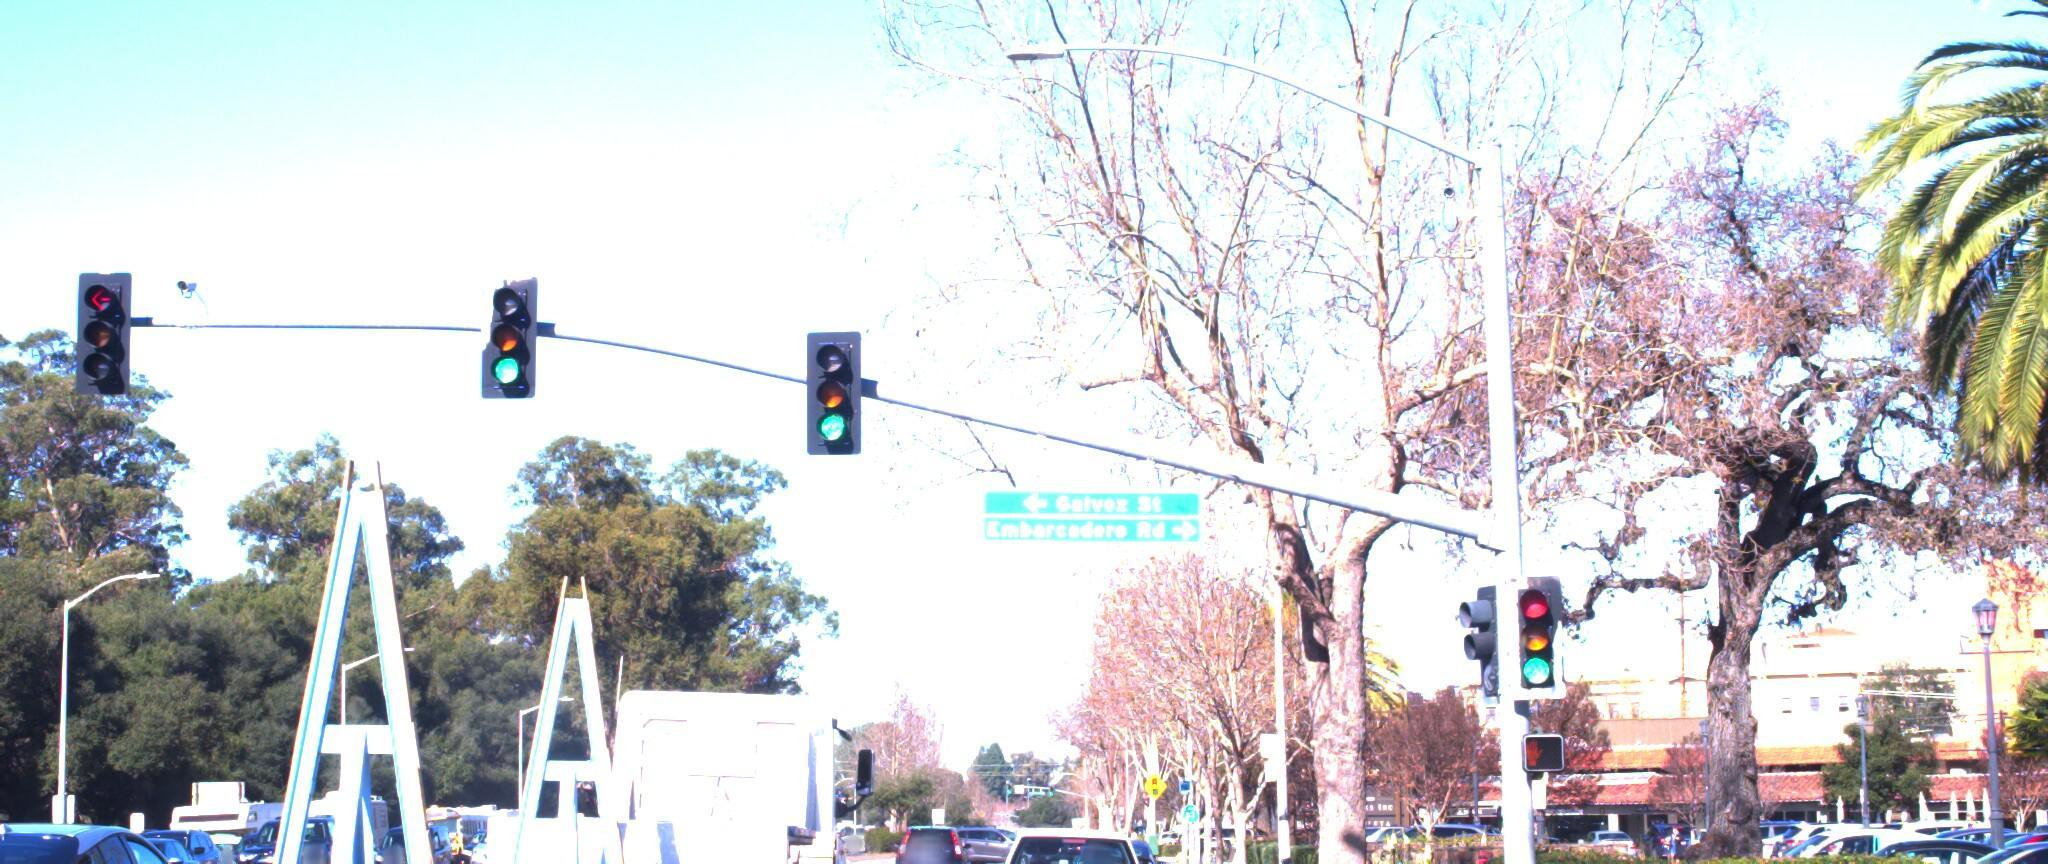car: (1691, 803, 2006, 864), (0, 799, 257, 864), (256, 796, 409, 864), (985, 807, 1162, 864), (1859, 818, 2048, 864), (889, 799, 967, 864)
truck: (37, 375, 876, 864)
